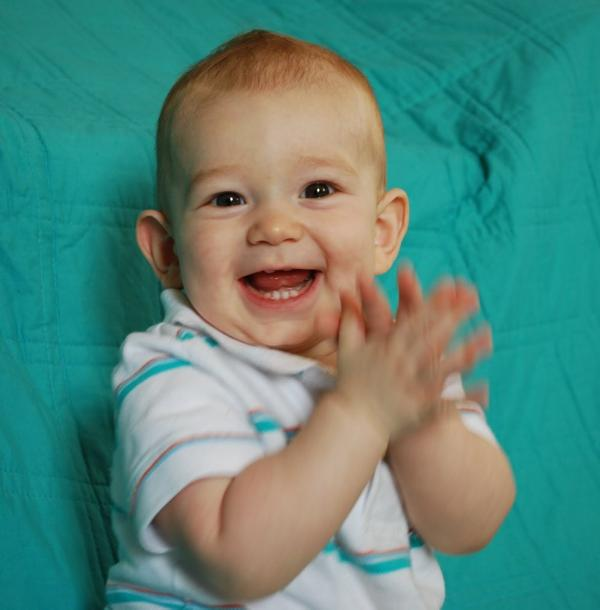person: (99, 29, 518, 610)
